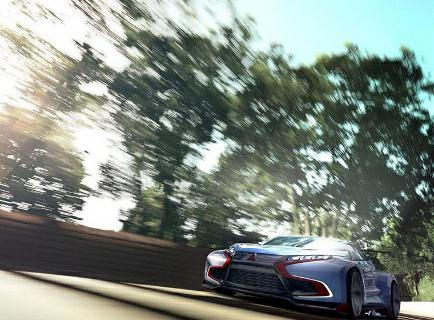三菱-XR-PHEV: (192, 234, 405, 320)
